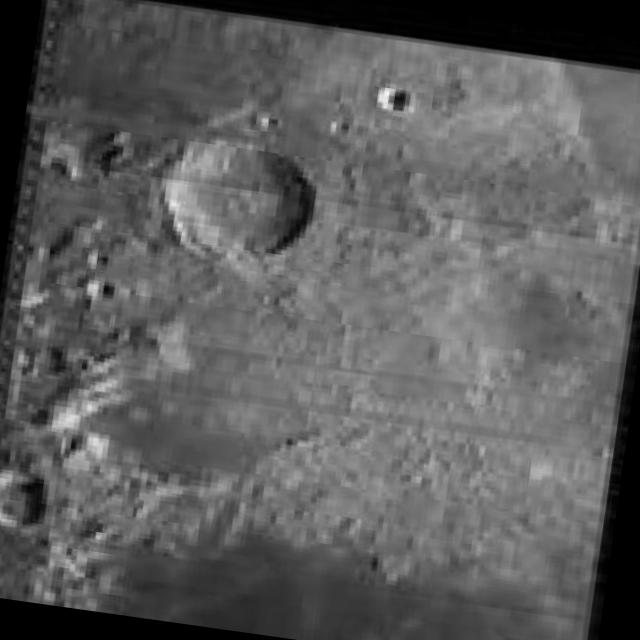crater: (156, 132, 324, 266)
